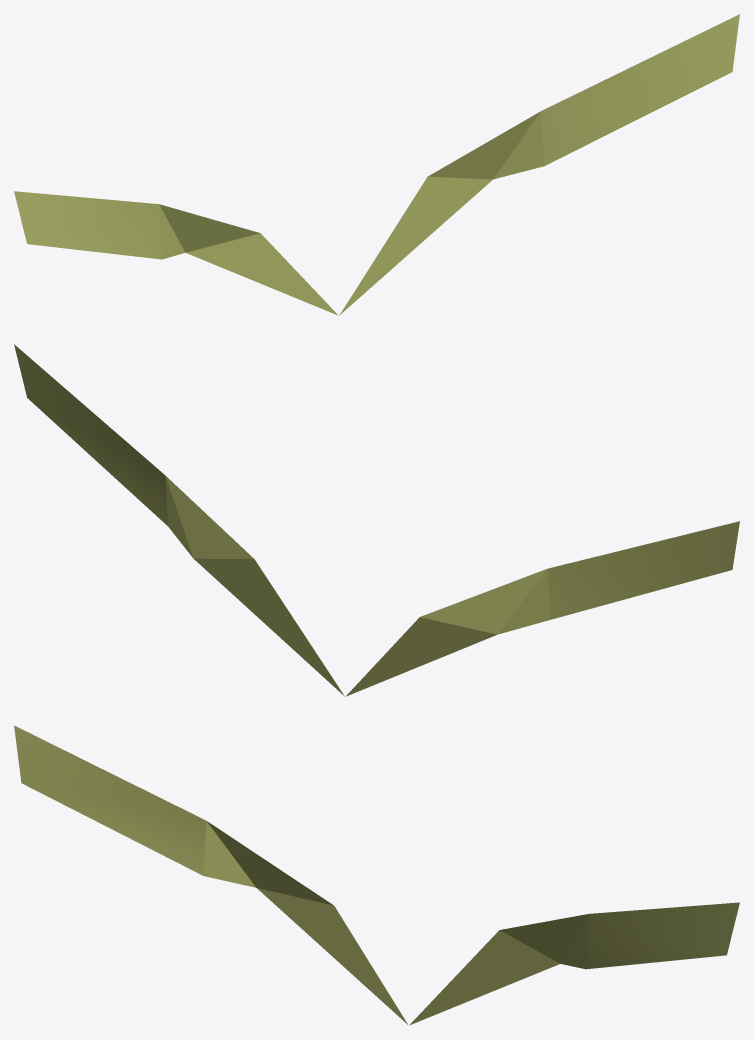
File: whiskers-derby-lightweight.dae
The picture shows the model from 3 angles, top to bottom: view 1: azimuth 30°, elevation 25°; view 2: azimuth 150°, elevation 25°; view 3: azimuth 330°, elevation 25°; orthographic projection.
Visible parts, largest first — view 1: Plane_032; view 2: Plane_032; view 3: Plane_032.
Boxes of the visible parts, left/top/right/bottom form: Plane_032: left=14, top=14, right=739, bottom=315; Plane_032: left=14, top=344, right=739, bottom=696; Plane_032: left=14, top=725, right=739, bottom=1025.
Size of the model in its own units: 1.9 by 0.1796 by 0.5951.
